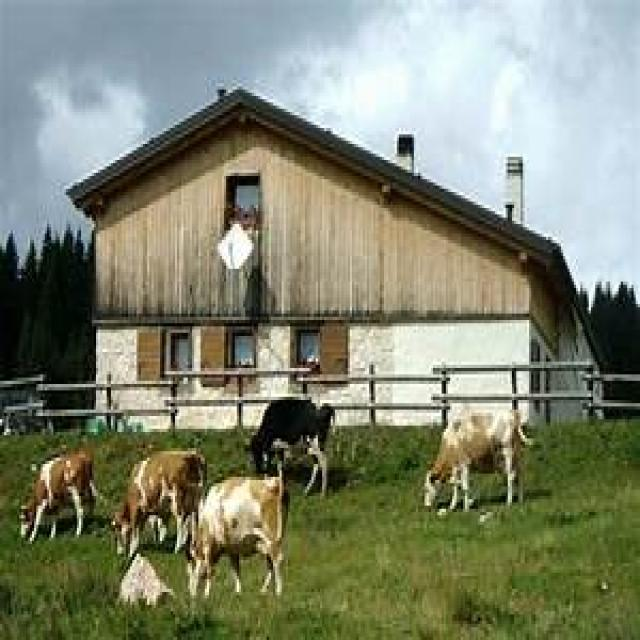animal: (184, 458, 290, 604), (422, 403, 534, 515), (109, 448, 207, 557), (247, 397, 335, 496), (17, 448, 98, 544)
